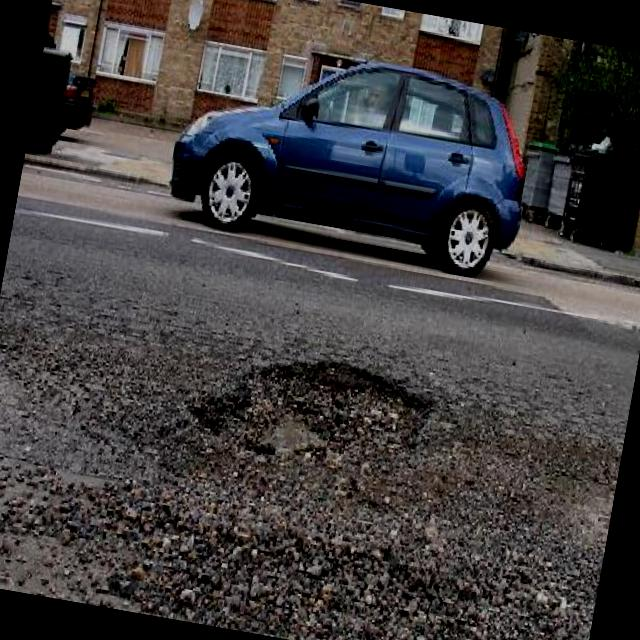pothole: (182, 332, 442, 487)
